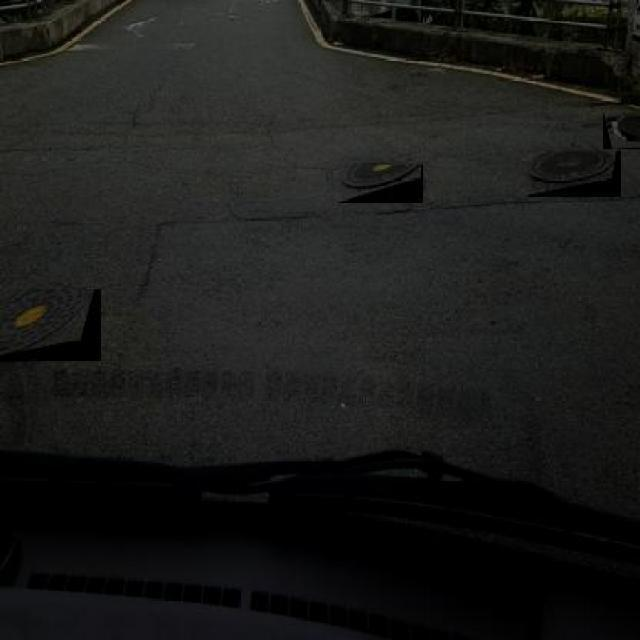Manhole: (0, 289, 100, 360), (528, 151, 620, 197), (338, 164, 424, 203), (603, 112, 640, 150)
Pothole: (390, 83, 432, 99), (406, 66, 446, 78)
